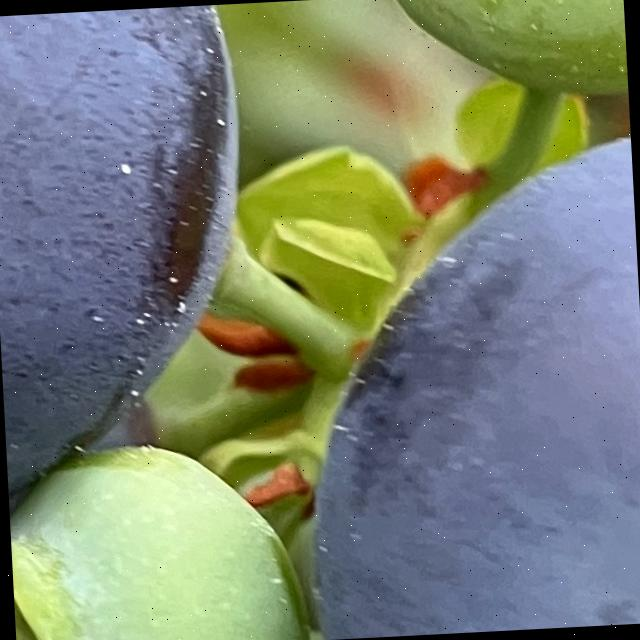Blueberries: (282, 123, 640, 640), (0, 4, 260, 528), (6, 425, 314, 640)
